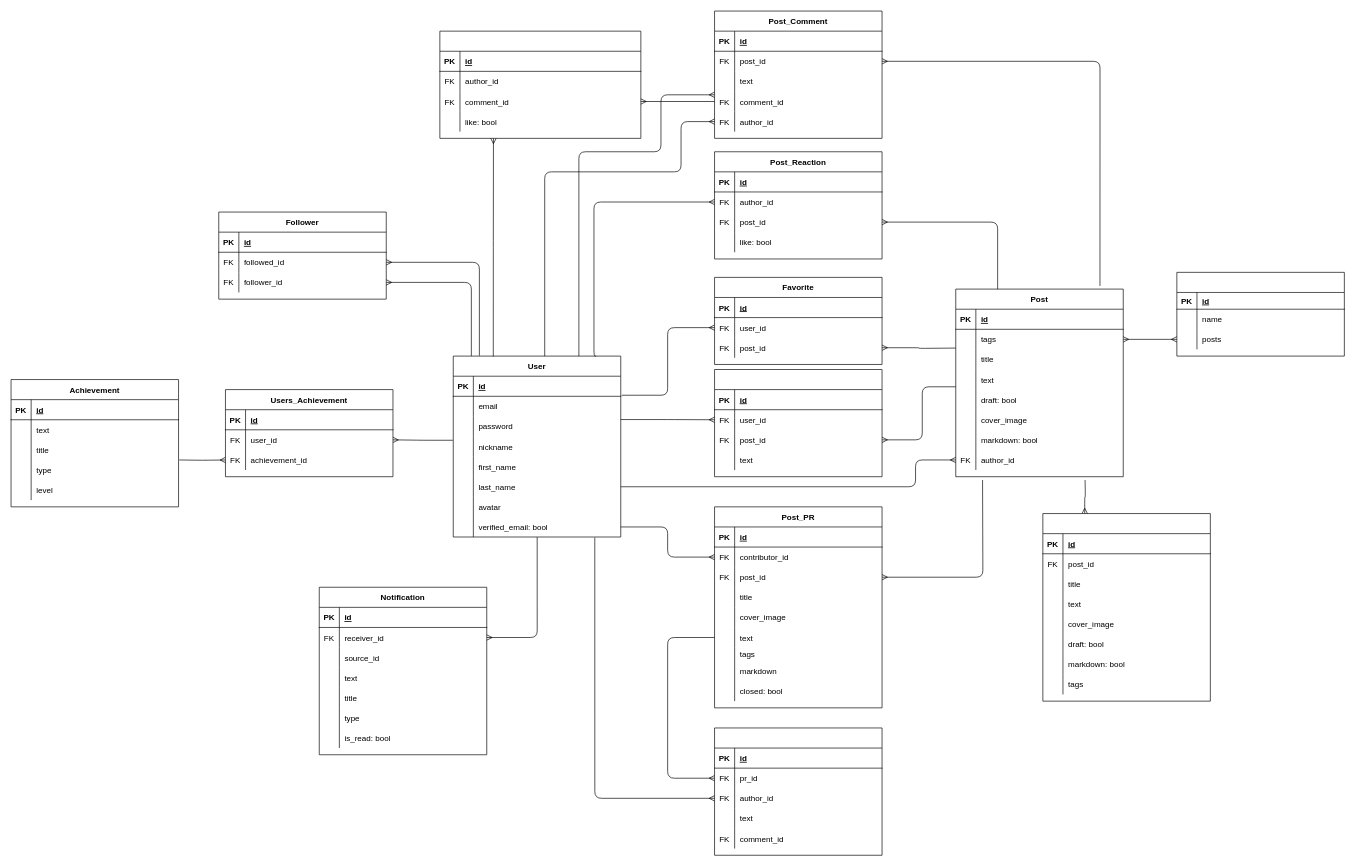
Image size: 1355x866. Some labels were removed from this diagram. The shapes that lost their labels are listed below. From the top down, each one's box as (x1, y1, x2, y2) in pixels, then its label:
(439, 30, 641, 138): Comment_Reaction
(1176, 272, 1344, 356): Tag
(714, 369, 882, 477): Highlight
(1042, 513, 1210, 701): Post_Version
(714, 727, 882, 855): PR_Comment
